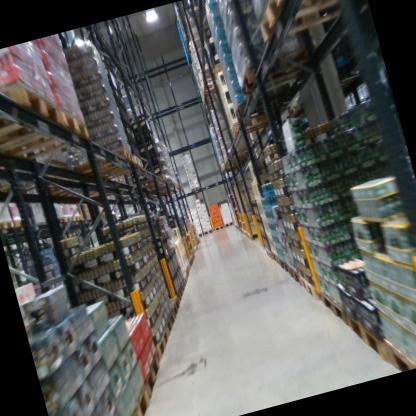pallet: (0, 101, 98, 179), (246, 0, 371, 49), (237, 40, 339, 96), (0, 72, 66, 149), (345, 301, 388, 366), (232, 89, 291, 125), (74, 142, 132, 175), (136, 349, 167, 401), (381, 327, 416, 373), (111, 380, 154, 416), (99, 153, 144, 187), (317, 283, 349, 330), (226, 109, 281, 136), (145, 323, 175, 365), (299, 267, 325, 309), (283, 255, 304, 294), (222, 141, 256, 162), (133, 169, 167, 190), (160, 306, 180, 338), (11, 210, 38, 230), (166, 295, 183, 319), (199, 80, 220, 98), (0, 215, 17, 234), (277, 254, 291, 277), (49, 212, 67, 227), (176, 275, 188, 294), (271, 247, 282, 265), (173, 285, 184, 302), (263, 244, 274, 261), (201, 226, 216, 238), (179, 270, 189, 285), (223, 217, 235, 229), (188, 184, 202, 194), (182, 265, 191, 280), (64, 213, 76, 224), (73, 210, 83, 221), (214, 223, 226, 232), (195, 230, 204, 238), (185, 261, 191, 272)
